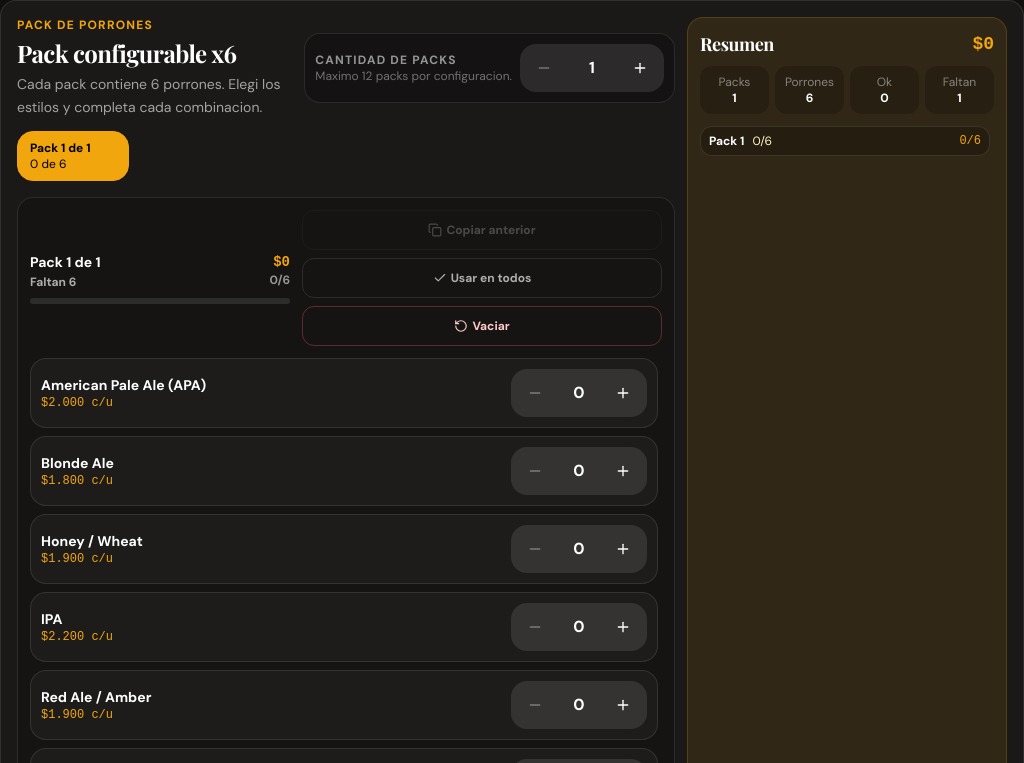
Test: ConfigurableBeerPackBuilder › cancels the confirmation dialog without changing the pack count
Step 1. Click the button named "Sumar cantidad de packs" → (640,68), box x1=620 y1=48 x2=660 y2=88
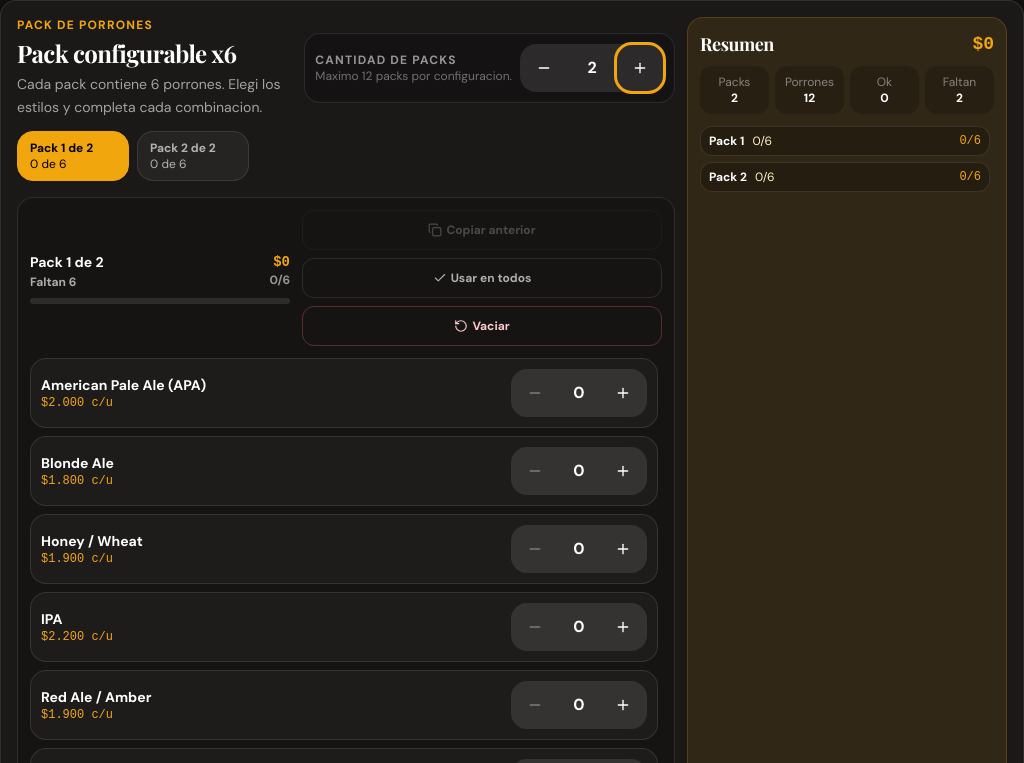
Step 2. Click the tab "Pack 2 de 2 0 de 6" → (193,156), box x1=137 y1=130 x2=249 y2=180
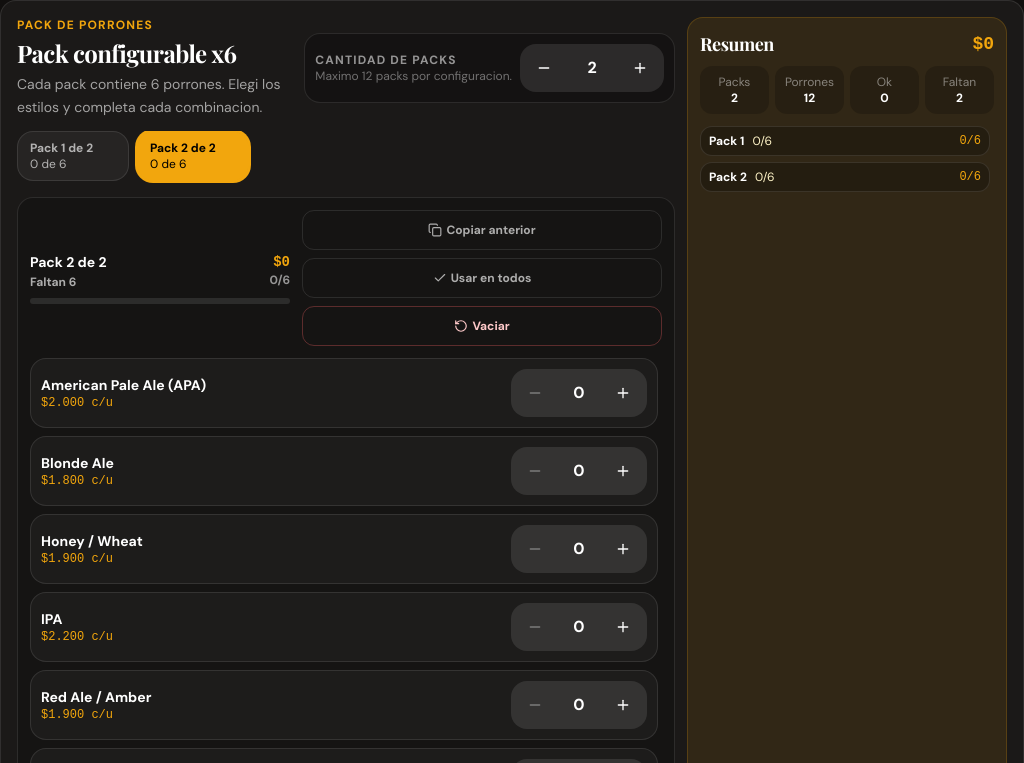
Step 3. Click the button named "Sumar Blonde Ale al Pack 2" → (623,470), box x1=603 y1=450 x2=643 y2=490
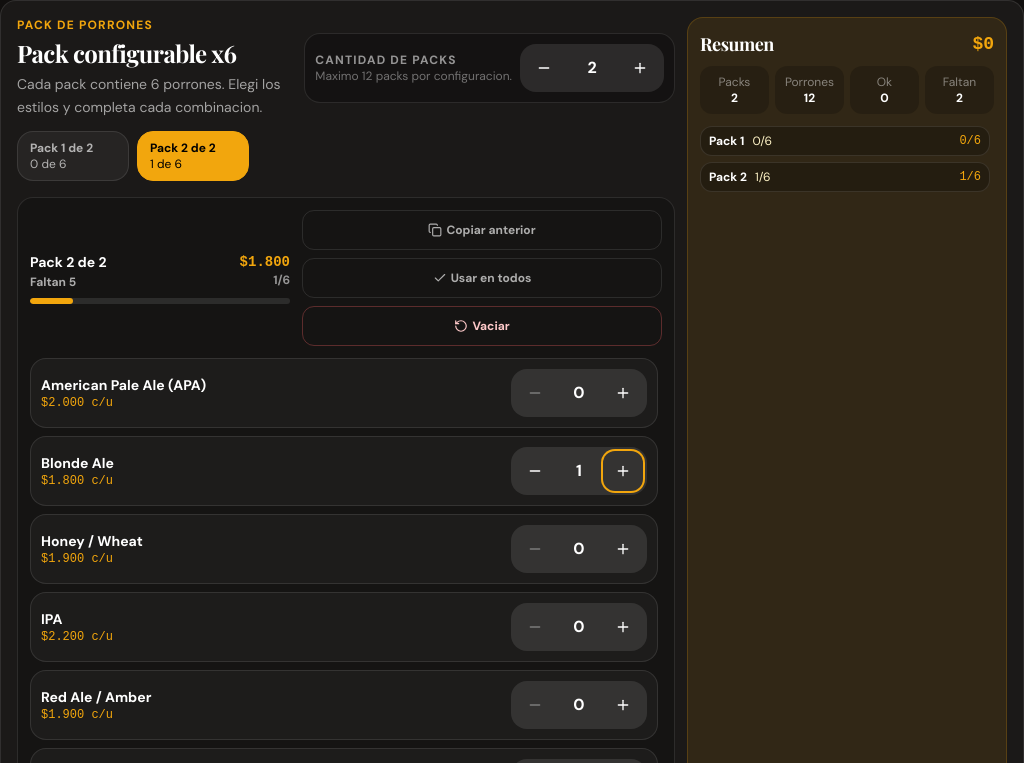
Step 4. Click the button named "Restar cantidad de packs" → (544,68), box x1=524 y1=48 x2=564 y2=88
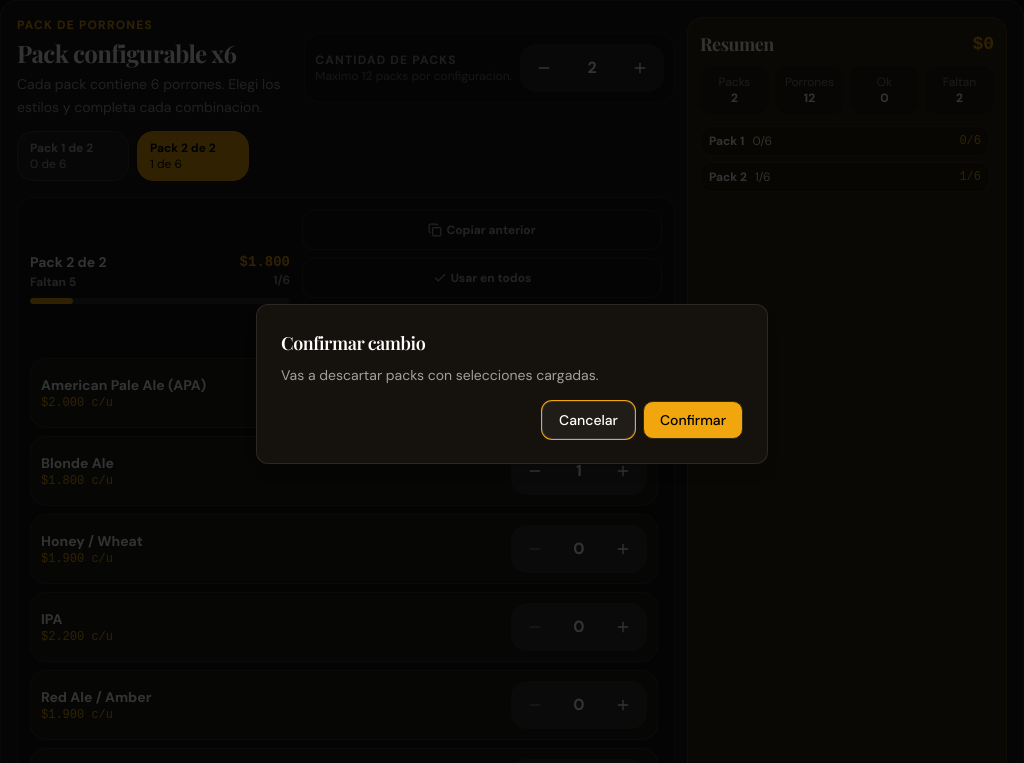
Step 5. Click the button "Cancelar" → (589,420), box x1=542 y1=401 x2=635 y2=439
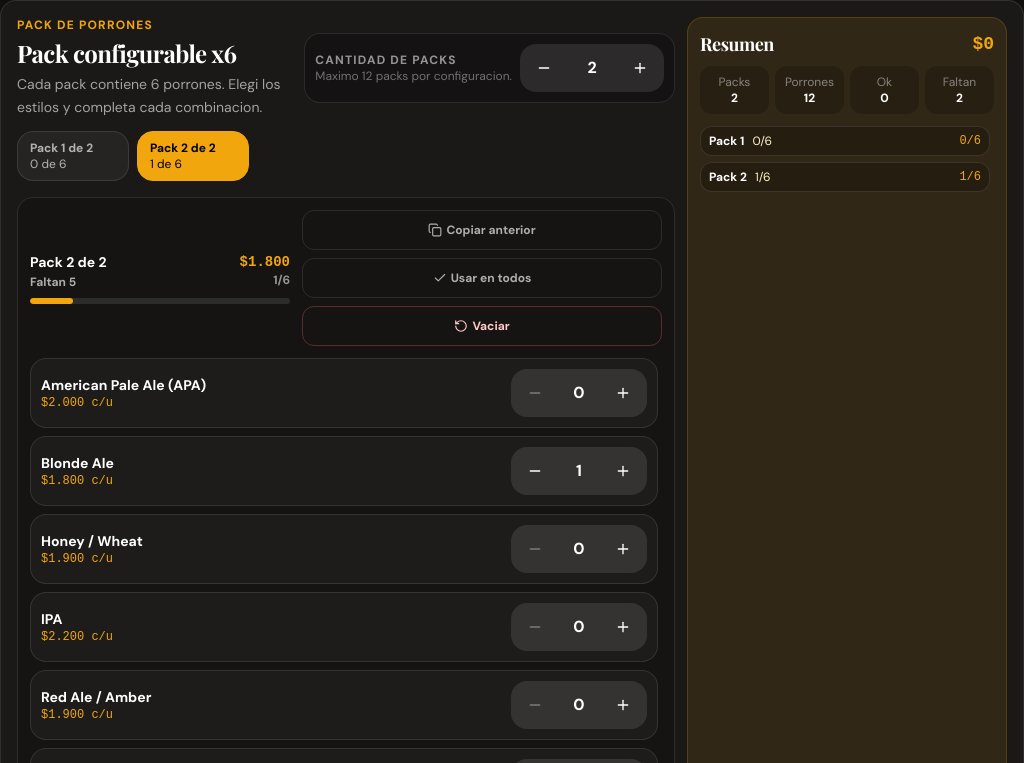
Expected: the number of tabs is 2, x1=17 y1=130 x2=129 y2=180; x1=137 y1=130 x2=249 y2=180
Expected: the dialog is gone
